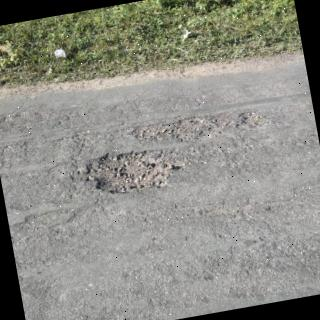pothole: (77, 150, 186, 194), (133, 112, 274, 143)
